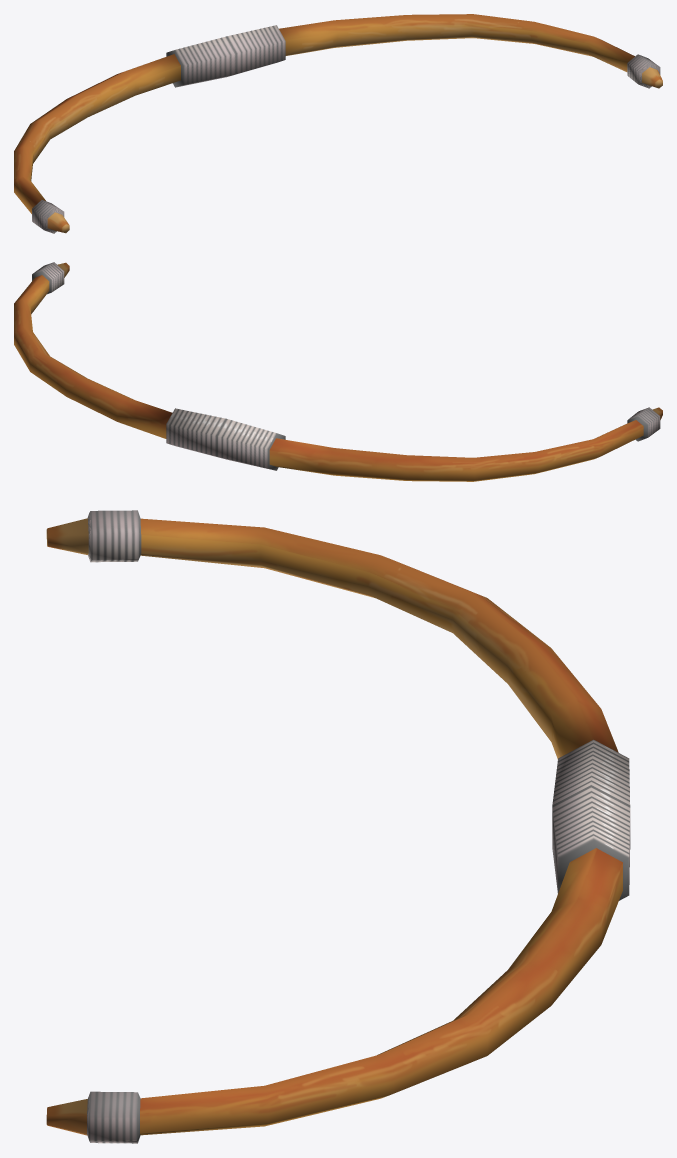
The model's file is bow.FBX.
3 views of the same model, one above another, from view 1: azimuth 30°, elevation 25°; view 2: azimuth 150°, elevation 25°; view 3: azimuth 270°, elevation 25° (orthographic). The views are drawn at different scales.
Visible parts, largest first — view 1: Object001; view 2: Object001; view 3: Object001.
Boxes of the visible parts, left/top/right/bottom form: Object001: left=14, top=14, right=662, bottom=233; Object001: left=14, top=262, right=662, bottom=481; Object001: left=46, top=510, right=630, bottom=1143.
Bounding box in the file's own units: 175 × 11.07 × 71.61.
1 material, 1 textured.
